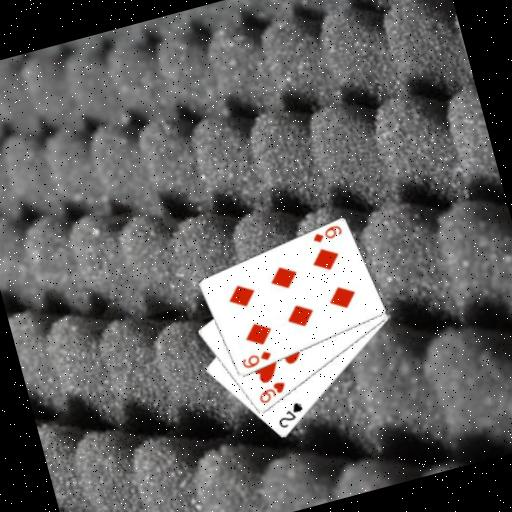2S: (270, 398, 308, 432)
6D: (237, 346, 274, 371), (307, 221, 344, 246)
9H: (253, 377, 290, 407)
